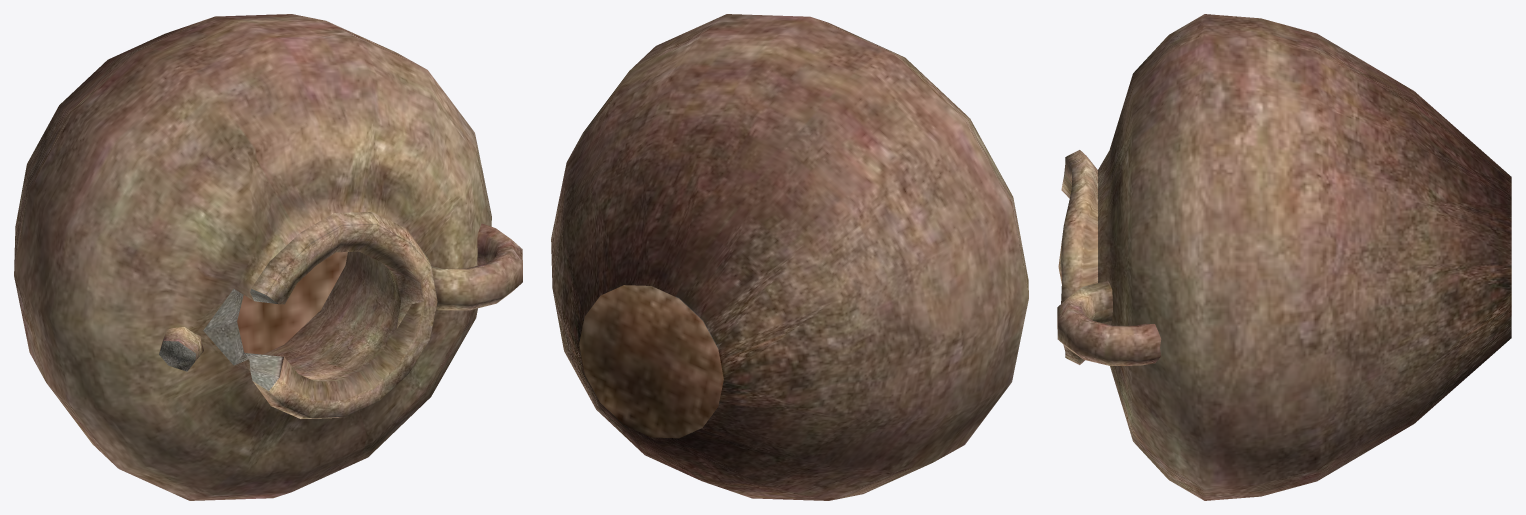
File: egypt_prop_vase4_interior.glb
The picture shows the model from 3 angles, left to right: view 1: azimuth 30°, elevation 25°; view 2: azimuth 150°, elevation 25°; view 3: azimuth 270°, elevation 25°; orthographic projection. The views are drawn at different scales.
Bounding box in the file's own units: 42.24 × 42.24 × 39.32.
1 material, 1 textured.
